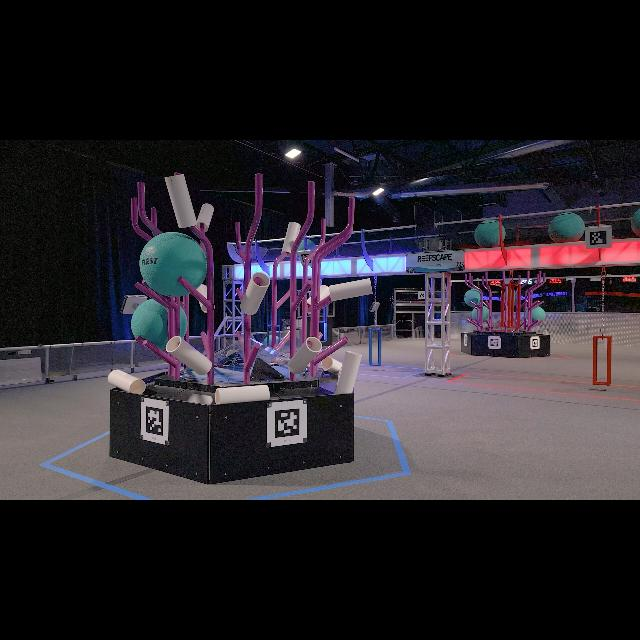ALGAE: (138, 231, 208, 297), (131, 298, 187, 354), (525, 306, 545, 324), (464, 289, 482, 307), (472, 306, 490, 322)
CORAL: (164, 334, 212, 376), (165, 174, 198, 228), (240, 272, 270, 314), (288, 338, 322, 374), (334, 351, 362, 393), (106, 368, 146, 394), (330, 278, 372, 302), (216, 386, 270, 404), (281, 222, 301, 256), (196, 204, 214, 232)
